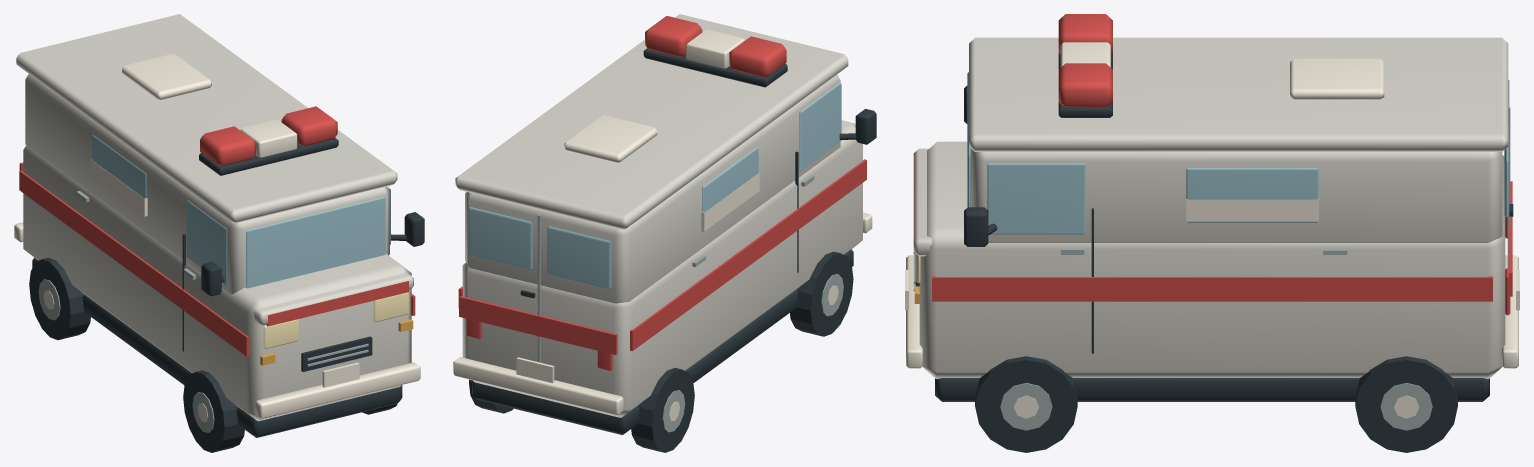
The model's file is komachi-ambulance.glb.
3 views of the same model, side by side, from view 1: azimuth 30°, elevation 25°; view 2: azimuth 150°, elevation 25°; view 3: azimuth 270°, elevation 25° (orthographic). The views are drawn at different scales.
Parts seen in each view (by area): view 1: Body_Paint.001, Roof.001, Upper_Cabin.001, Front_Windscreen.001, Red_Side_Stripe, Chassis.001, Bumper.002, Wheel_Left_Rear_Tyre.001, Wheel_Left_Front_Tyre.001, Roof_Vent, Cab_Side_Window.002, Front_Red_Stripe (+15 smaller); view 2: Roof.001, Body_Paint.001, Upper_Cabin.001, Red_Side_Stripe, Chassis.001, Rear_Red_Stripe, Bumper.003, Rear_Window.003, Rear_Window.002, Wheel_Left_Front_Tyre.001, Wheel_Left_Rear_Tyre.001, Roof_Vent (+12 smaller); view 3: Body_Paint.001, Roof.001, Upper_Cabin.001, Red_Side_Stripe.001, Chassis.001, Cab_Side_Window.003, Wheel_Right_Front_Tyre.001, Wheel_Right_Rear_Tyre.001, Patient_Window.001, Roof_Vent, Privacy_Window.001, Red_Beacon.001 (+9 smaller).
Part boxes in pixels (x1,y1,x2,y2): Body_Paint.001: [23, 145, 411, 421]; Roof.001: [16, 14, 397, 223]; Upper_Cabin.001: [25, 74, 389, 294]; Front_Windscreen.001: [246, 197, 385, 288]; Red_Side_Stripe: [19, 170, 249, 356]; Chassis.001: [32, 257, 402, 437]; Bumper.002: [255, 362, 420, 418]; Wheel_Left_Rear_Tyre.001: [29, 257, 90, 340]; Wheel_Left_Front_Tyre.001: [183, 370, 244, 452]; Roof_Vent: [122, 53, 211, 100]; Cab_Side_Window.002: [186, 200, 227, 285]; Front_Red_Stripe: [266, 281, 408, 326]; Roof.001: [455, 14, 848, 229]; Body_Paint.001: [462, 120, 862, 417]; Upper_Cabin.001: [465, 75, 840, 303]; Red_Side_Stripe: [630, 159, 866, 350]; Chassis.001: [472, 249, 853, 434]; Rear_Red_Stripe: [459, 296, 617, 354]; Bumper.003: [453, 357, 623, 415]; Rear_Window.003: [468, 207, 532, 270]; Rear_Window.002: [547, 226, 611, 289]; Wheel_Left_Front_Tyre.001: [790, 251, 853, 336]; Wheel_Left_Rear_Tyre.001: [631, 367, 694, 452]; Roof_Vent: [564, 115, 657, 163]; Body_Paint.001: [919, 141, 1505, 378]; Roof.001: [969, 37, 1508, 151]; Upper_Cabin.001: [971, 149, 1502, 242]; Red_Side_Stripe.001: [932, 276, 1492, 301]; Chassis.001: [935, 378, 1489, 401]; Cab_Side_Window.003: [987, 163, 1085, 234]; Wheel_Right_Front_Tyre.001: [975, 356, 1077, 452]; Wheel_Right_Rear_Tyre.001: [1355, 356, 1457, 452]; Patient_Window.001: [1186, 168, 1318, 222]; Roof_Vent: [1290, 58, 1384, 100]; Privacy_Window.001: [1186, 199, 1318, 221]; Red_Beacon.001: [1058, 63, 1112, 106].
Size of the model in its own units: 0.307 by 0.386 by 0.6112.
